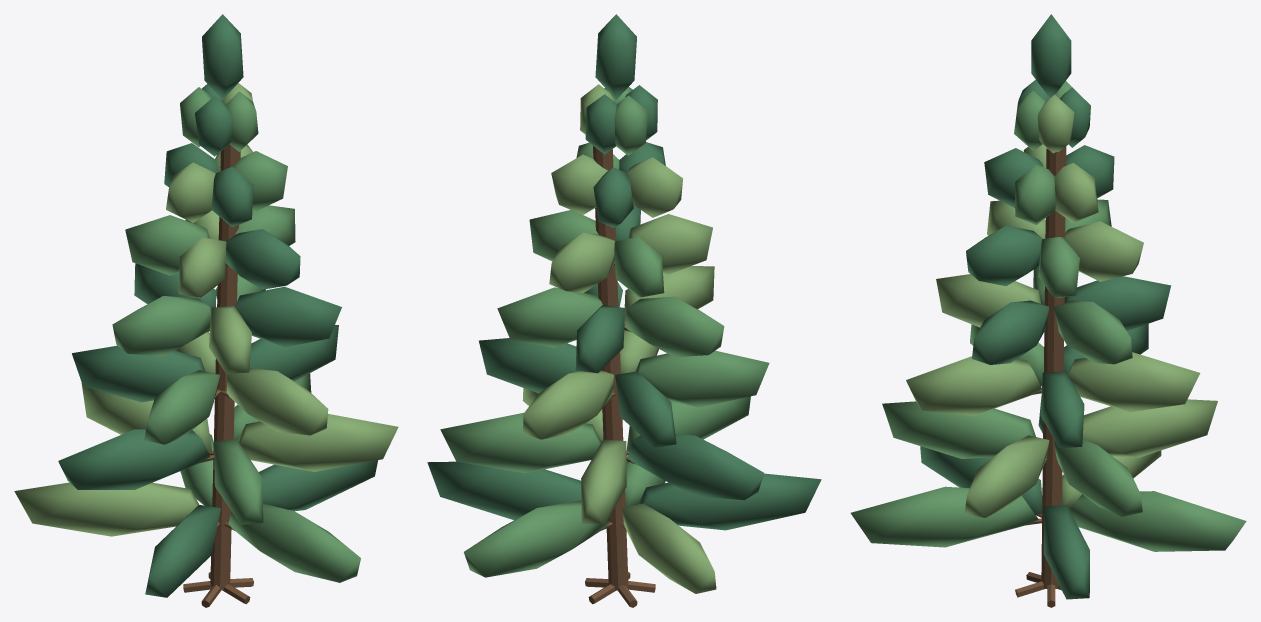
File: pine_4.fbx
3 renders of one model, left to right at view 1: azimuth 30°, elevation 25°; view 2: azimuth 150°, elevation 25°; view 3: azimuth 270°, elevation 25°, orthographic.
Visible parts, largest first — view 1: pine_4; view 2: pine_4; view 3: pine_4.
Boxes of the visible parts, bbox=[...] form: pine_4: bbox=[14, 14, 398, 607]; pine_4: bbox=[427, 14, 821, 607]; pine_4: bbox=[850, 14, 1246, 607].
Size of the model in its own units: 684 by 1145 by 709.
